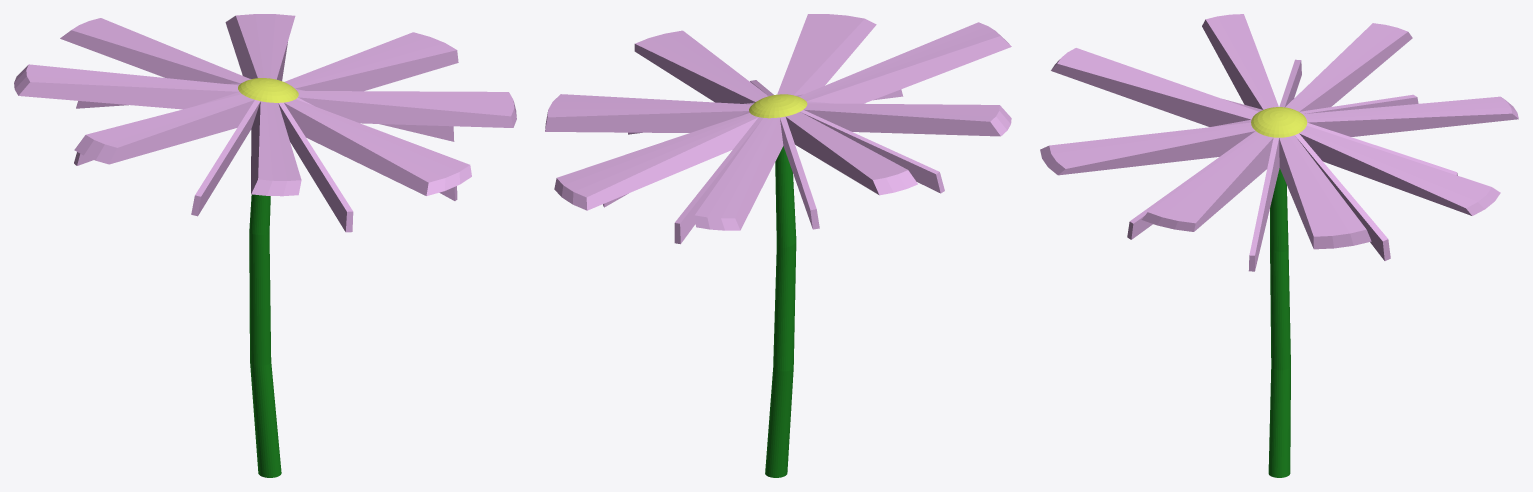
Rendered from Fleur marais.fbx.
3 views of the same model, side by side, from view 1: azimuth 30°, elevation 25°; view 2: azimuth 150°, elevation 25°; view 3: azimuth 270°, elevation 25° (orthographic). The views are drawn at different scales.
Parts seen in each view (by area): view 1: Cylinder; view 2: Cylinder; view 3: Cylinder.
Boxes of the visible parts, <box> form: Cylinder: <box>14,14,516,477</box>; Cylinder: <box>545,14,1011,477</box>; Cylinder: <box>1040,14,1518,477</box>.
Size of the model in its own units: 191 by 175 by 205.
